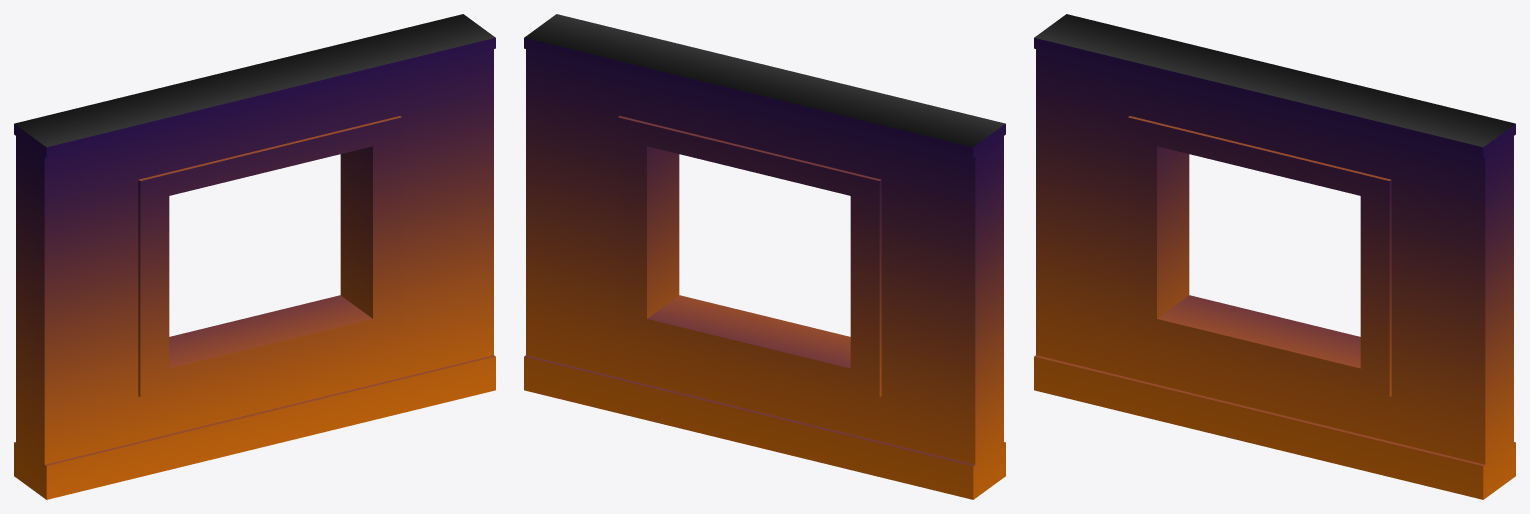
Rendered from wall_w.glb.
3 views of the same model, side by side, from view 1: azimuth 30°, elevation 25°; view 2: azimuth 150°, elevation 25°; view 3: azimuth 330°, elevation 25° (orthographic).
Visible parts, largest first — view 1: wall_window; view 2: wall_window; view 3: wall_window.
Boxes of the visible parts, <box> form: wall_window: <box>14,14,495,499</box>; wall_window: <box>524,14,1005,499</box>; wall_window: <box>1034,14,1515,499</box>.
Bounding box in the file's own units: 4 × 3 × 0.5.
1 material, 1 textured.
